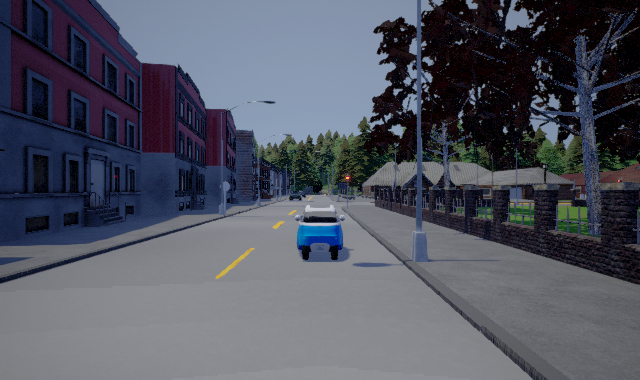traffic_light: (344, 175, 350, 185)
vehicle: (295, 204, 346, 260)
